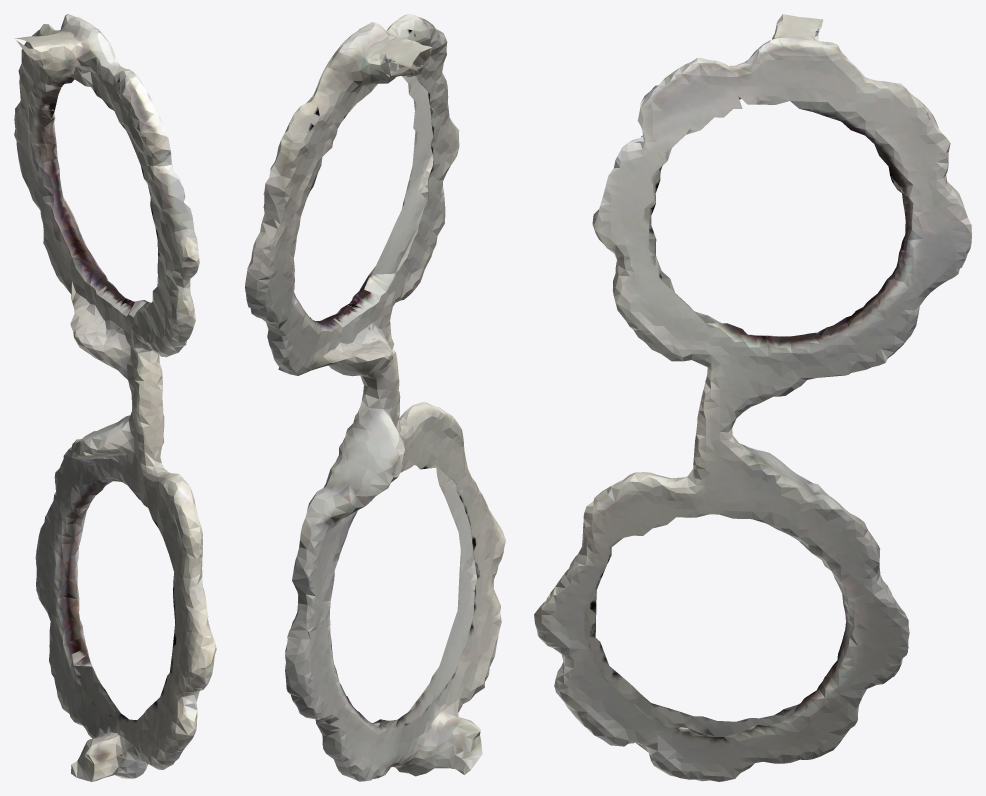
3 renders of one model, left to right at view 1: azimuth 30°, elevation 25°; view 2: azimuth 150°, elevation 25°; view 3: azimuth 270°, elevation 25°, orthographic. The views are drawn at different scales.
Parts seen in each view (by area): view 1: base_link; view 2: base_link; view 3: base_link.
Boxes of the visible parts, <box> form: base_link: <box>14,14,216,781</box>; base_link: <box>245,14,505,781</box>; base_link: <box>534,14,971,781</box>.
Size of the model in its own units: 0.0173 by 0.1248 by 0.066.
Materials: 1 (1 with a texture image).
